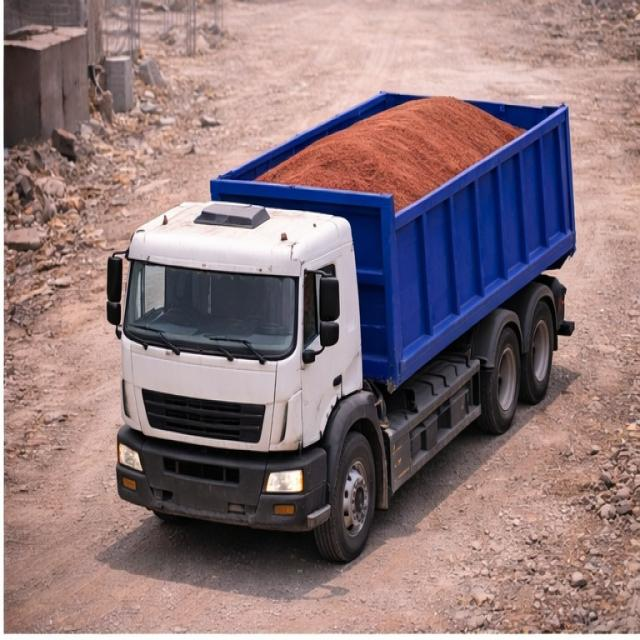trailer: (200, 89, 573, 198)
truck: (108, 77, 580, 543)
